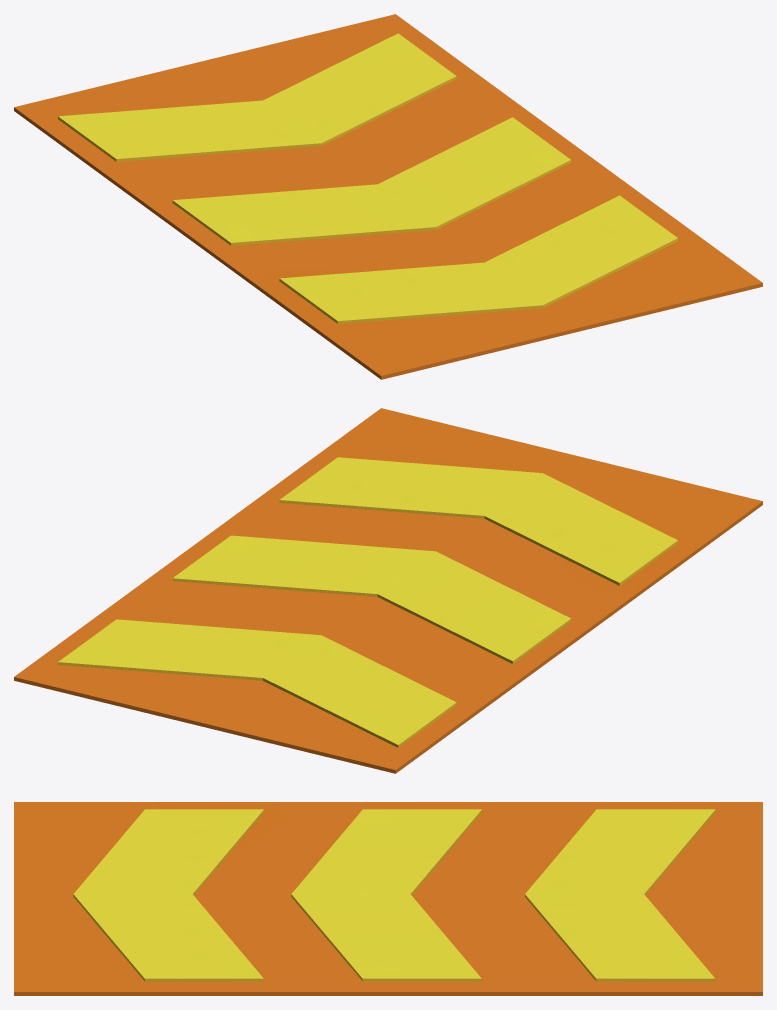
Rendered from road_boost.FBX.
3 renders of one model, top to bottom at view 1: azimuth 30°, elevation 25°; view 2: azimuth 150°, elevation 25°; view 3: azimuth 270°, elevation 25°, orthographic.
Visible parts, largest first — view 1: road_boost; view 2: road_boost; view 3: road_boost.
Part boxes in pixels (x1,y1,x2,y2): road_boost: [14, 14, 762, 379]; road_boost: [14, 408, 762, 773]; road_boost: [14, 802, 762, 995].
Bounding box in the file's own units: 3 × 0.05 × 5.
1 material, 1 textured.
